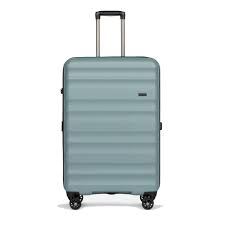suitcase: (59, 9, 163, 210)
